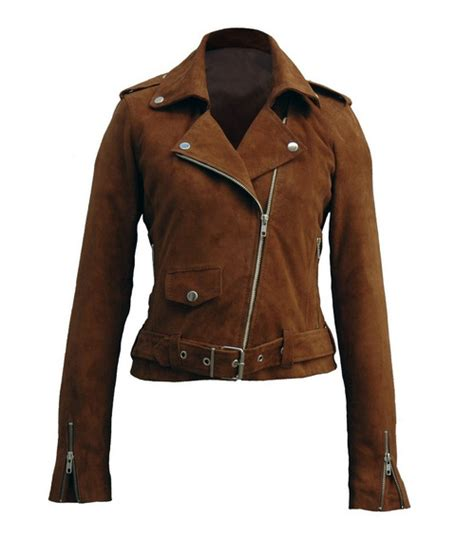gamuza: (49, 28, 411, 511)
